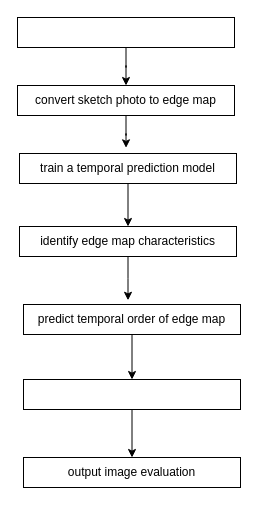
This 258x505 diagram has some shape labels left out. Each missing label, with the centre of its shape:
Pre-processing of input sketch photo: point (125, 32)
use encoder-decoder architecture for sketch based image retrieval: point (131, 394)
